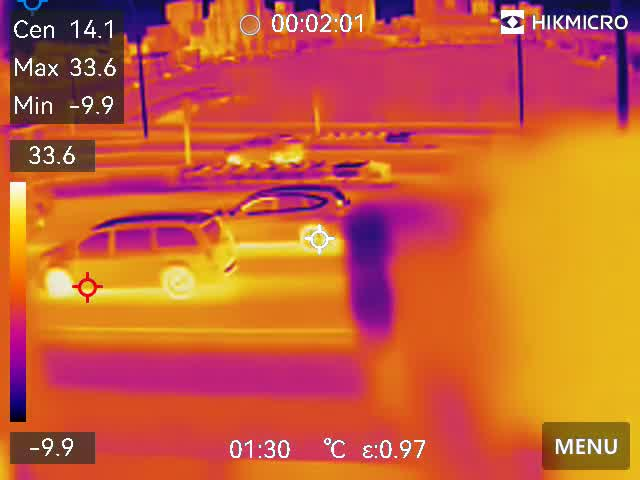largeCar: (30, 214, 240, 299), (218, 186, 355, 250)
